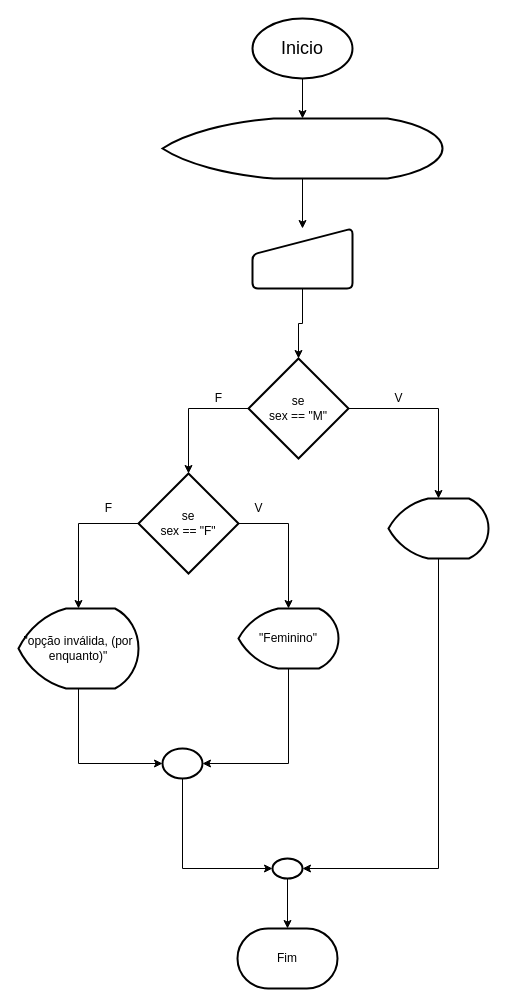
Some shapes in this 506 by 1006 pixel diagram are drawn without their labels. Each missing label, with the centre of its shape:
"Informe o seu sexo (M, F)": point (302, 148)
"Masculino": point (438, 528)
sex: point (302, 258)
